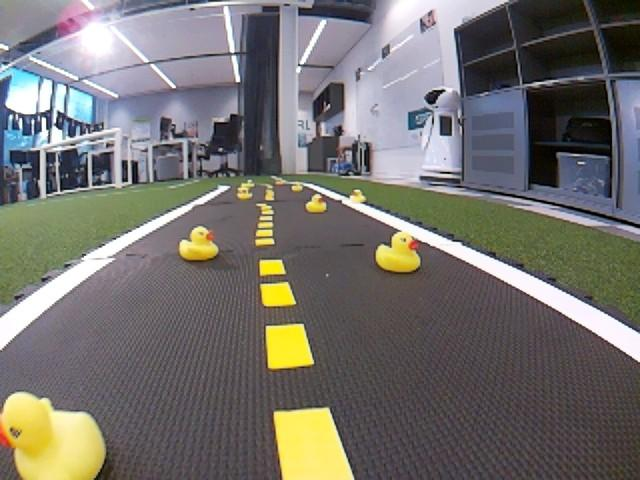Duckies: (0, 392, 112, 480), (374, 230, 421, 272), (180, 225, 221, 261), (306, 196, 328, 213), (236, 180, 255, 195), (349, 188, 366, 204), (291, 182, 305, 191)
